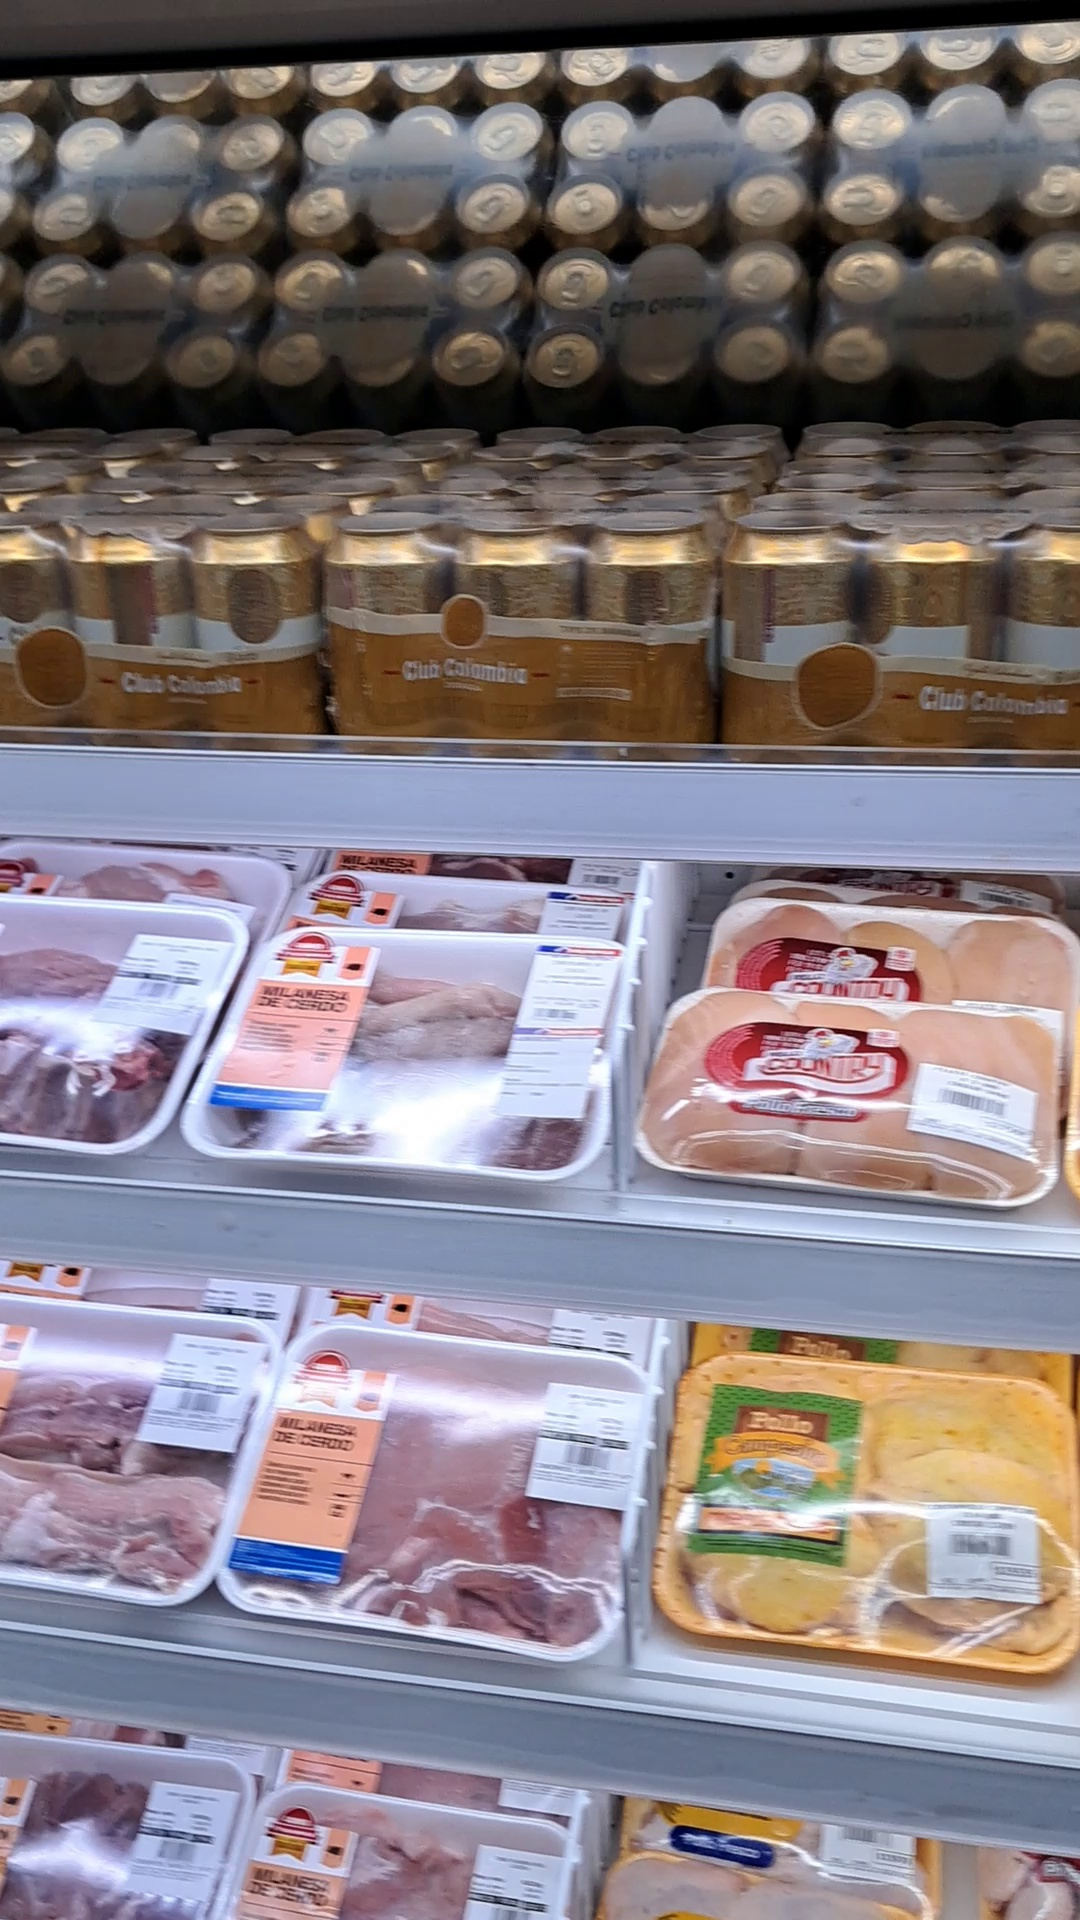Cerveza: (326, 489, 753, 745), (720, 487, 1076, 753), (3, 489, 348, 725), (144, 422, 481, 489), (467, 419, 790, 481), (779, 425, 1071, 481)
